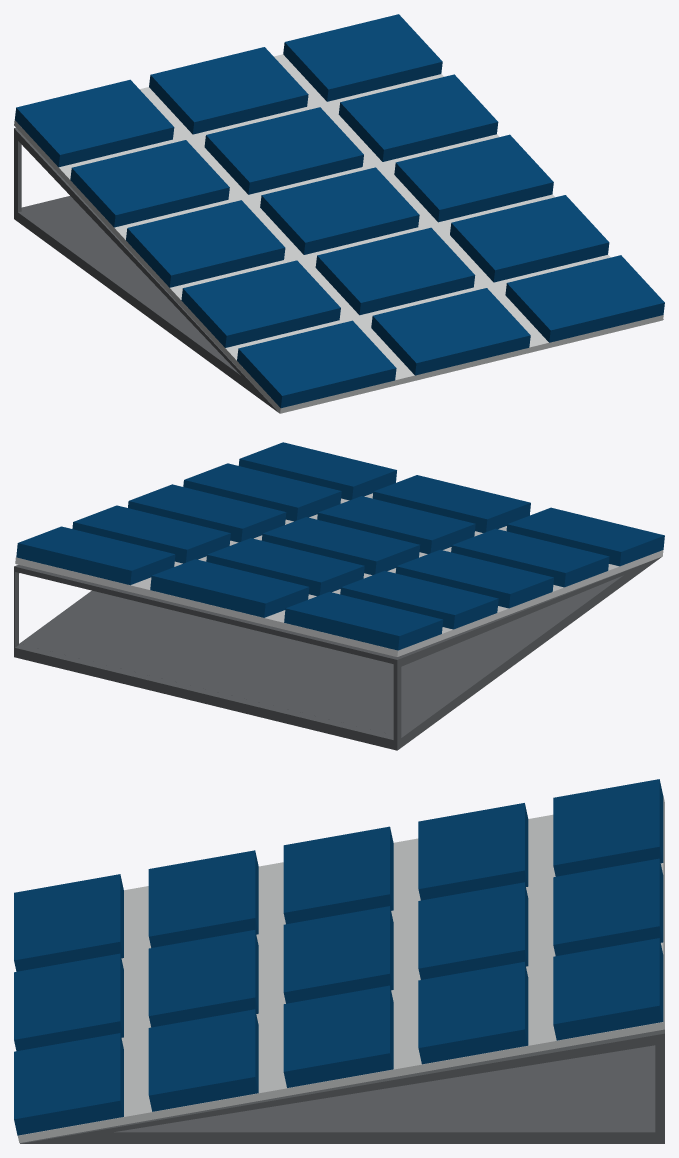
The model's file is Solar Panel 5x3 small.glb.
3 views of the same model, one above another, from view 1: azimuth 30°, elevation 25°; view 2: azimuth 150°, elevation 25°; view 3: azimuth 270°, elevation 25° (orthographic). The views are drawn at different scales.
Visible parts, largest first — view 1: Mesh_Mesh_head_geo.001_lambert2SG.001; view 2: Mesh_Mesh_head_geo.001_lambert2SG.001; view 3: Mesh_Mesh_head_geo.001_lambert2SG.001.
Boxes of the visible parts, bbox=[...] form: Mesh_Mesh_head_geo.001_lambert2SG.001: bbox=[14, 14, 664, 413]; Mesh_Mesh_head_geo.001_lambert2SG.001: bbox=[14, 442, 664, 750]; Mesh_Mesh_head_geo.001_lambert2SG.001: bbox=[14, 779, 664, 1143].
Size of the model in its own units: 88.43 by 24.89 by 107.
